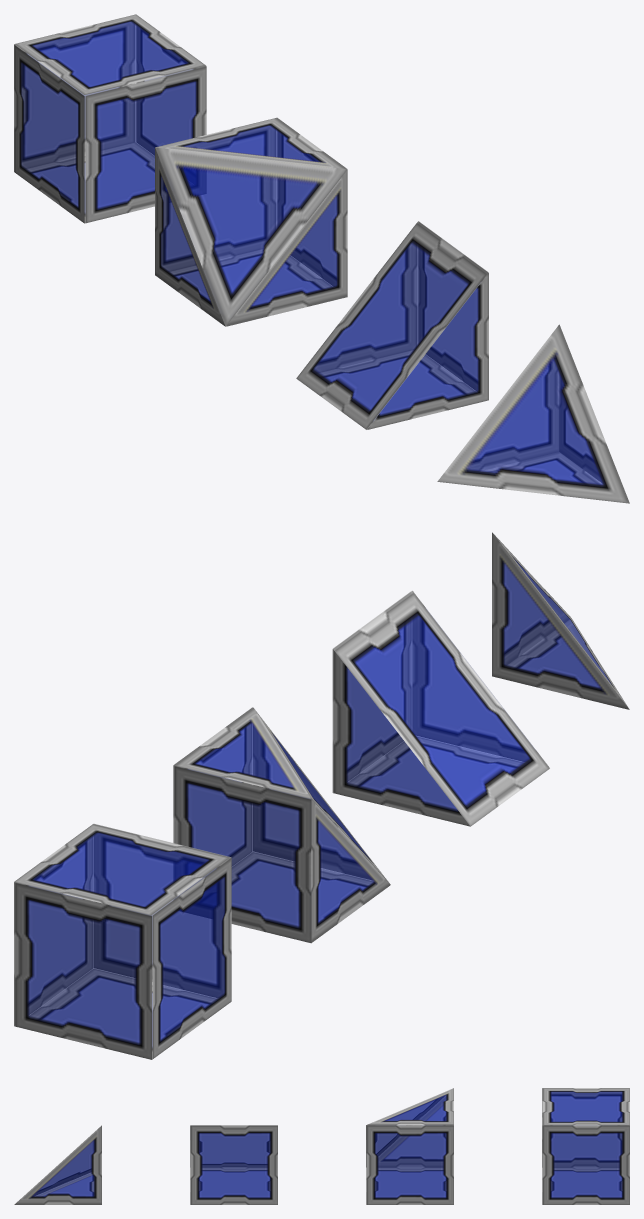
The model's file is different_shape_blocks.glb.
3 renders of one model, top to bottom at view 1: azimuth 30°, elevation 25°; view 2: azimuth 150°, elevation 25°; view 3: azimuth 270°, elevation 25°, orthographic. The views are drawn at different scales.
Parts seen in each view (by area): view 1: Glass_Inner, Glass_Cube, Glass_Prism, Glass_Tetra; view 2: Glass_Cube, Glass_Prism, Glass_Inner, Glass_Tetra; view 3: Glass_Cube, Glass_Inner, Glass_Prism, Glass_Tetra.
Boxes of the visible parts, <box> form: Glass_Inner: <box>155,117,347,326</box>; Glass_Cube: <box>14,14,206,223</box>; Glass_Prism: <box>296,221,488,429</box>; Glass_Tetra: <box>437,324,629,503</box>; Glass_Cube: <box>14,823,231,1059</box>; Glass_Prism: <box>332,590,549,826</box>; Glass_Inner: <box>173,707,390,943</box>; Glass_Tetra: <box>492,532,629,709</box>; Glass_Cube: <box>542,1088,629,1204</box>; Glass_Inner: <box>366,1088,453,1204</box>; Glass_Prism: <box>190,1125,277,1204</box>; Glass_Tetra: <box>14,1125,101,1204</box>.
Bounding box in the file's own units: 2 × 2 × 14.
1 material, 1 textured.
